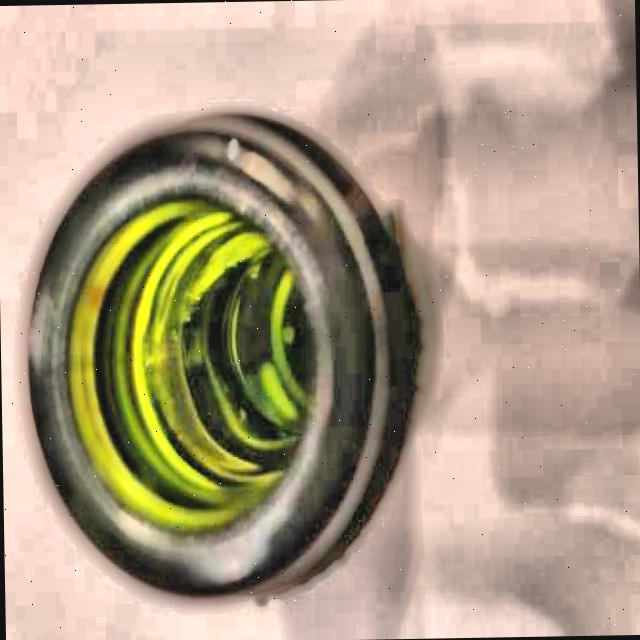glass: (21, 106, 424, 603)
